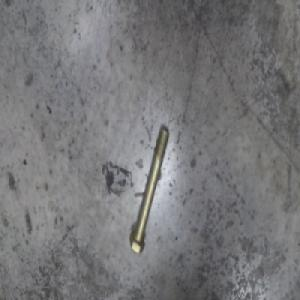Bolt: (128, 113, 169, 253)
